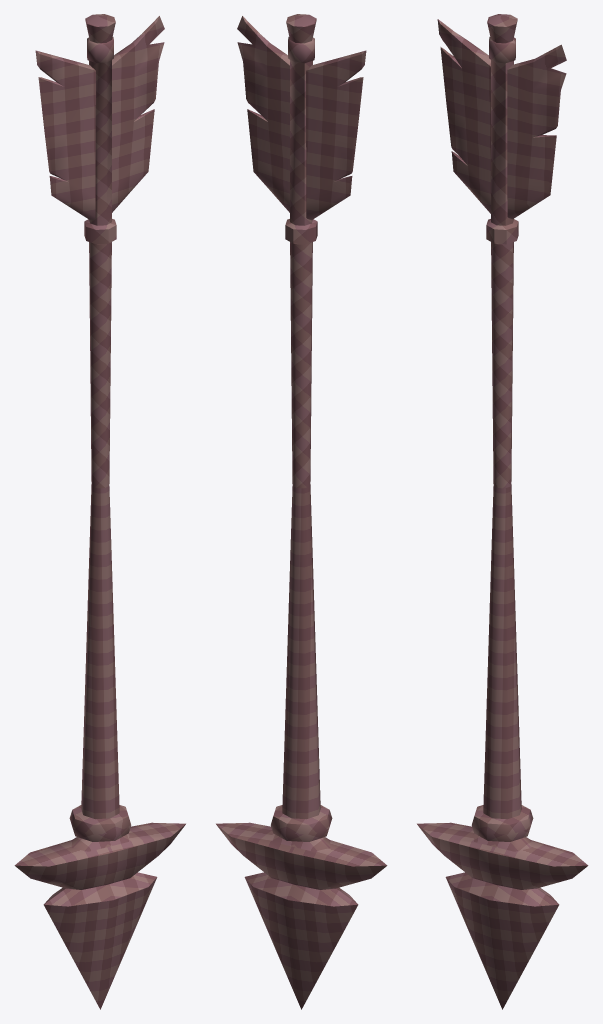
The model's file is 315_arrow_MD.fbx.
The picture shows the model from 3 angles, left to right: view 1: azimuth 30°, elevation 25°; view 2: azimuth 150°, elevation 25°; view 3: azimuth 330°, elevation 25°; orthographic projection.
Parts seen in each view (by area): view 1: Cylinder001; view 2: Cylinder001; view 3: Cylinder001.
Boxes of the visible parts, x1=… form: Cylinder001: x1=14, y1=14, x2=185, y2=1009; Cylinder001: x1=216, y1=14, x2=387, y2=1009; Cylinder001: x1=417, y1=14, x2=588, y2=1009.
Size of the model in its own units: 8.65 by 47.73 by 2.78.
Materials: 1 (1 with a texture image).
